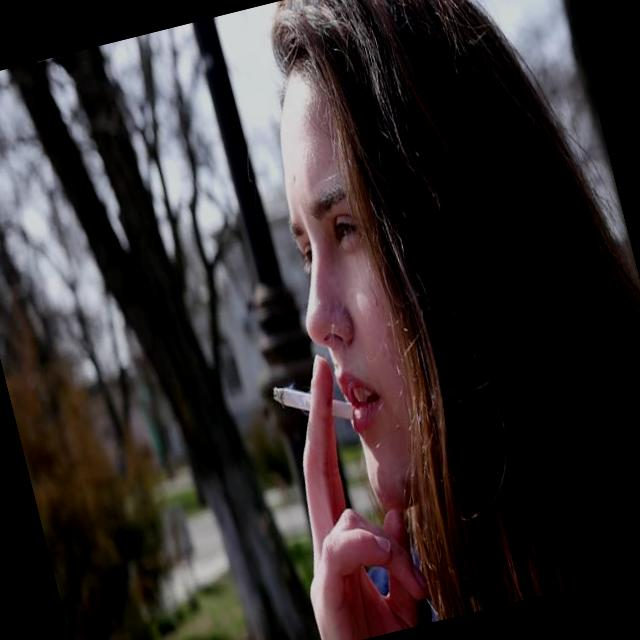cigarette: (249, 334, 370, 464)
